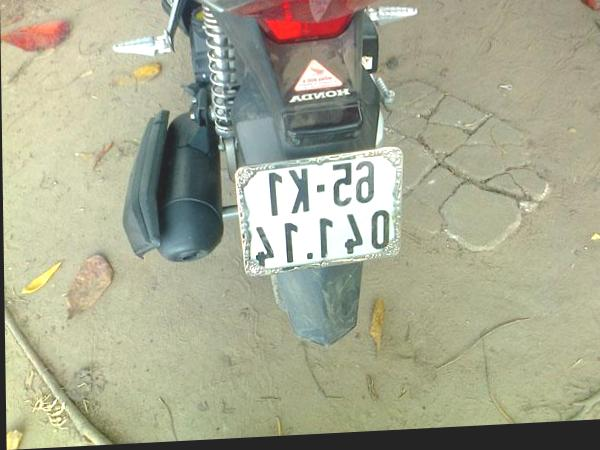License_Plate: (243, 150, 399, 272)
